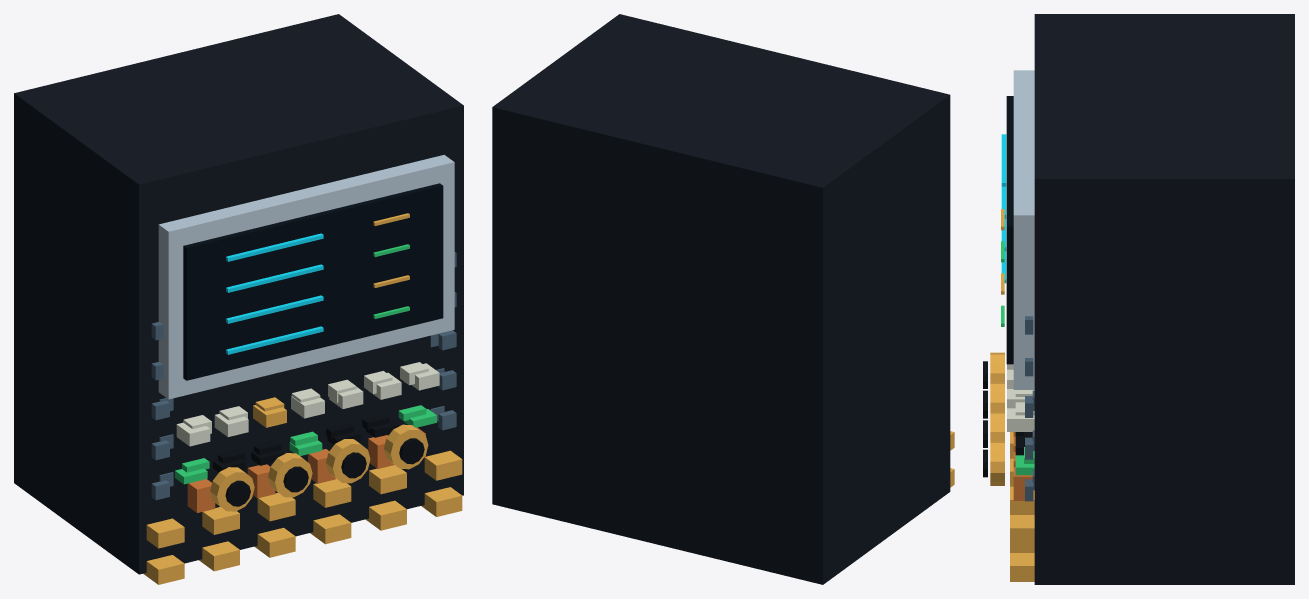
The model's file is 31_L92_AnchorLoadDistributionPLC.fbx.
3 renders of one model, left to right at view 1: azimuth 30°, elevation 25°; view 2: azimuth 150°, elevation 25°; view 3: azimuth 270°, elevation 25°, orthographic. The views are drawn at different scales.
Parts seen in each view (by area): view 1: L92_AnchorLoadDistributionPLC, L92_AnchorLoadDistributionPLC_Part_0015, L92_AnchorLoadDistributionPLC_Part_0017, L92_AnchorLoadDistributionPLC_Part_0019, L92_AnchorLoadDistributionPLC_Part_0021; view 2: L92_AnchorLoadDistributionPLC; view 3: L92_AnchorLoadDistributionPLC, L92_AnchorLoadDistributionPLC_Part_0021, L92_AnchorLoadDistributionPLC_Part_0015, L92_AnchorLoadDistributionPLC_Part_0017, L92_AnchorLoadDistributionPLC_Part_0019.
Boxes of the visible parts, x1,y1,x2,y2 form: L92_AnchorLoadDistributionPLC: (14,14,463,584); L92_AnchorLoadDistributionPLC_Part_0015: (210,467,254,511); L92_AnchorLoadDistributionPLC_Part_0017: (268,453,312,497); L92_AnchorLoadDistributionPLC_Part_0019: (326,439,370,483); L92_AnchorLoadDistributionPLC_Part_0021: (384,424,428,469); L92_AnchorLoadDistributionPLC: (492,14,954,584); L92_AnchorLoadDistributionPLC: (1001,14,1294,584); L92_AnchorLoadDistributionPLC_Part_0021: (990,441,1004,485); L92_AnchorLoadDistributionPLC_Part_0015: (990,352,1004,381); L92_AnchorLoadDistributionPLC_Part_0017: (990,382,1004,411); L92_AnchorLoadDistributionPLC_Part_0019: (990,411,1004,440).
Bounding box in the file's own units: 112 × 130 × 89.6.
